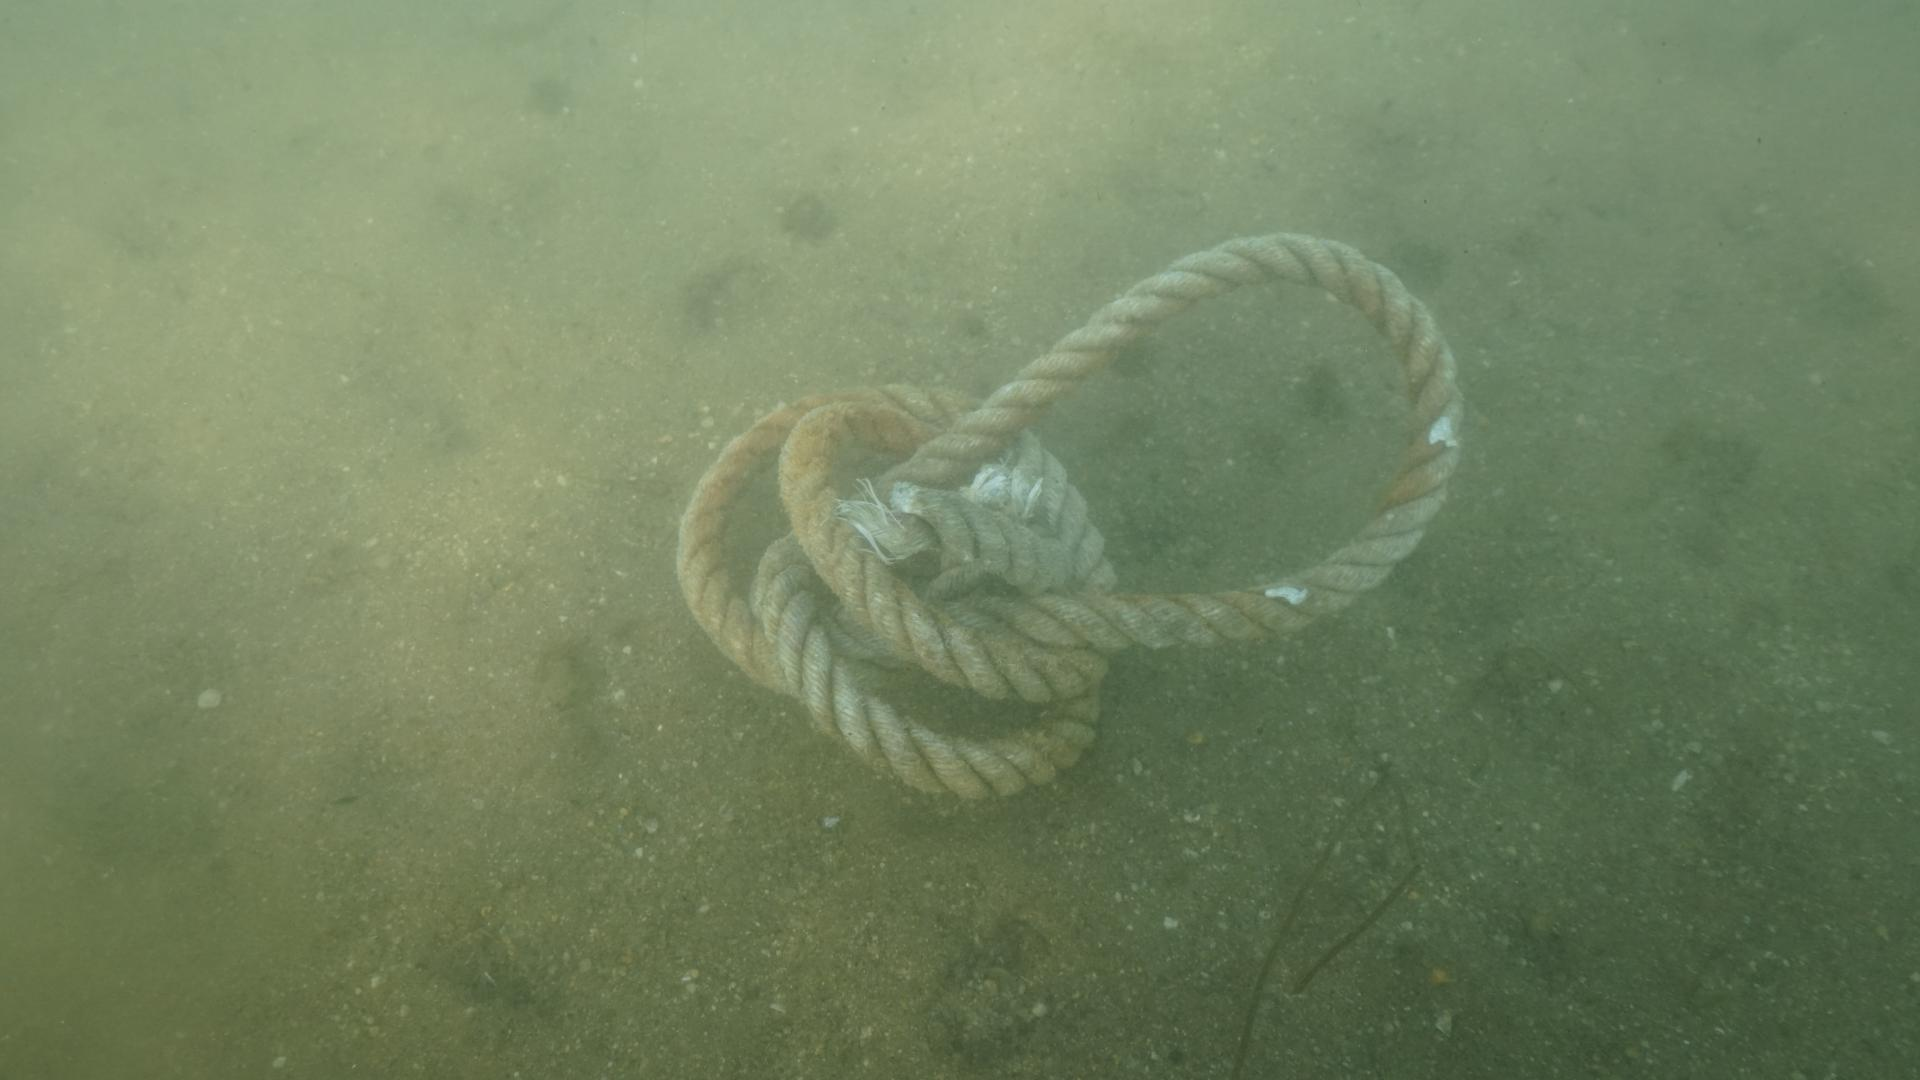bundle of ropes: (667, 224, 1466, 804)
